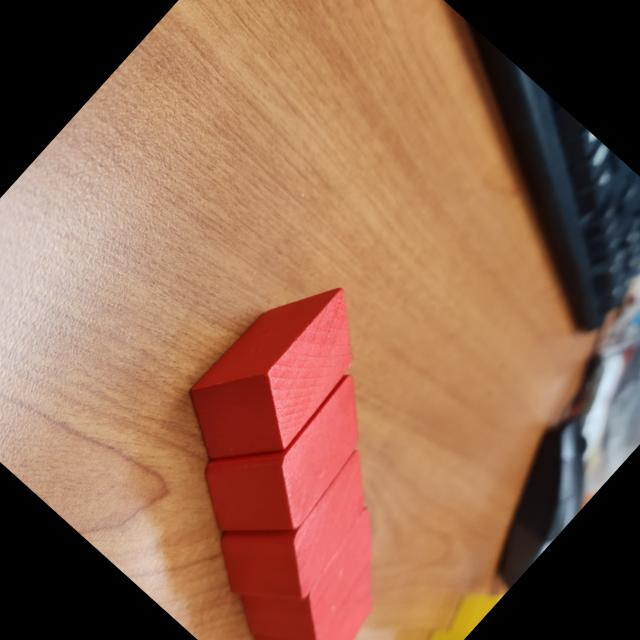red: (160, 252, 392, 492), (174, 339, 399, 570), (195, 418, 404, 634), (222, 482, 405, 640), (237, 535, 411, 640)
yellow: (389, 570, 508, 640)
